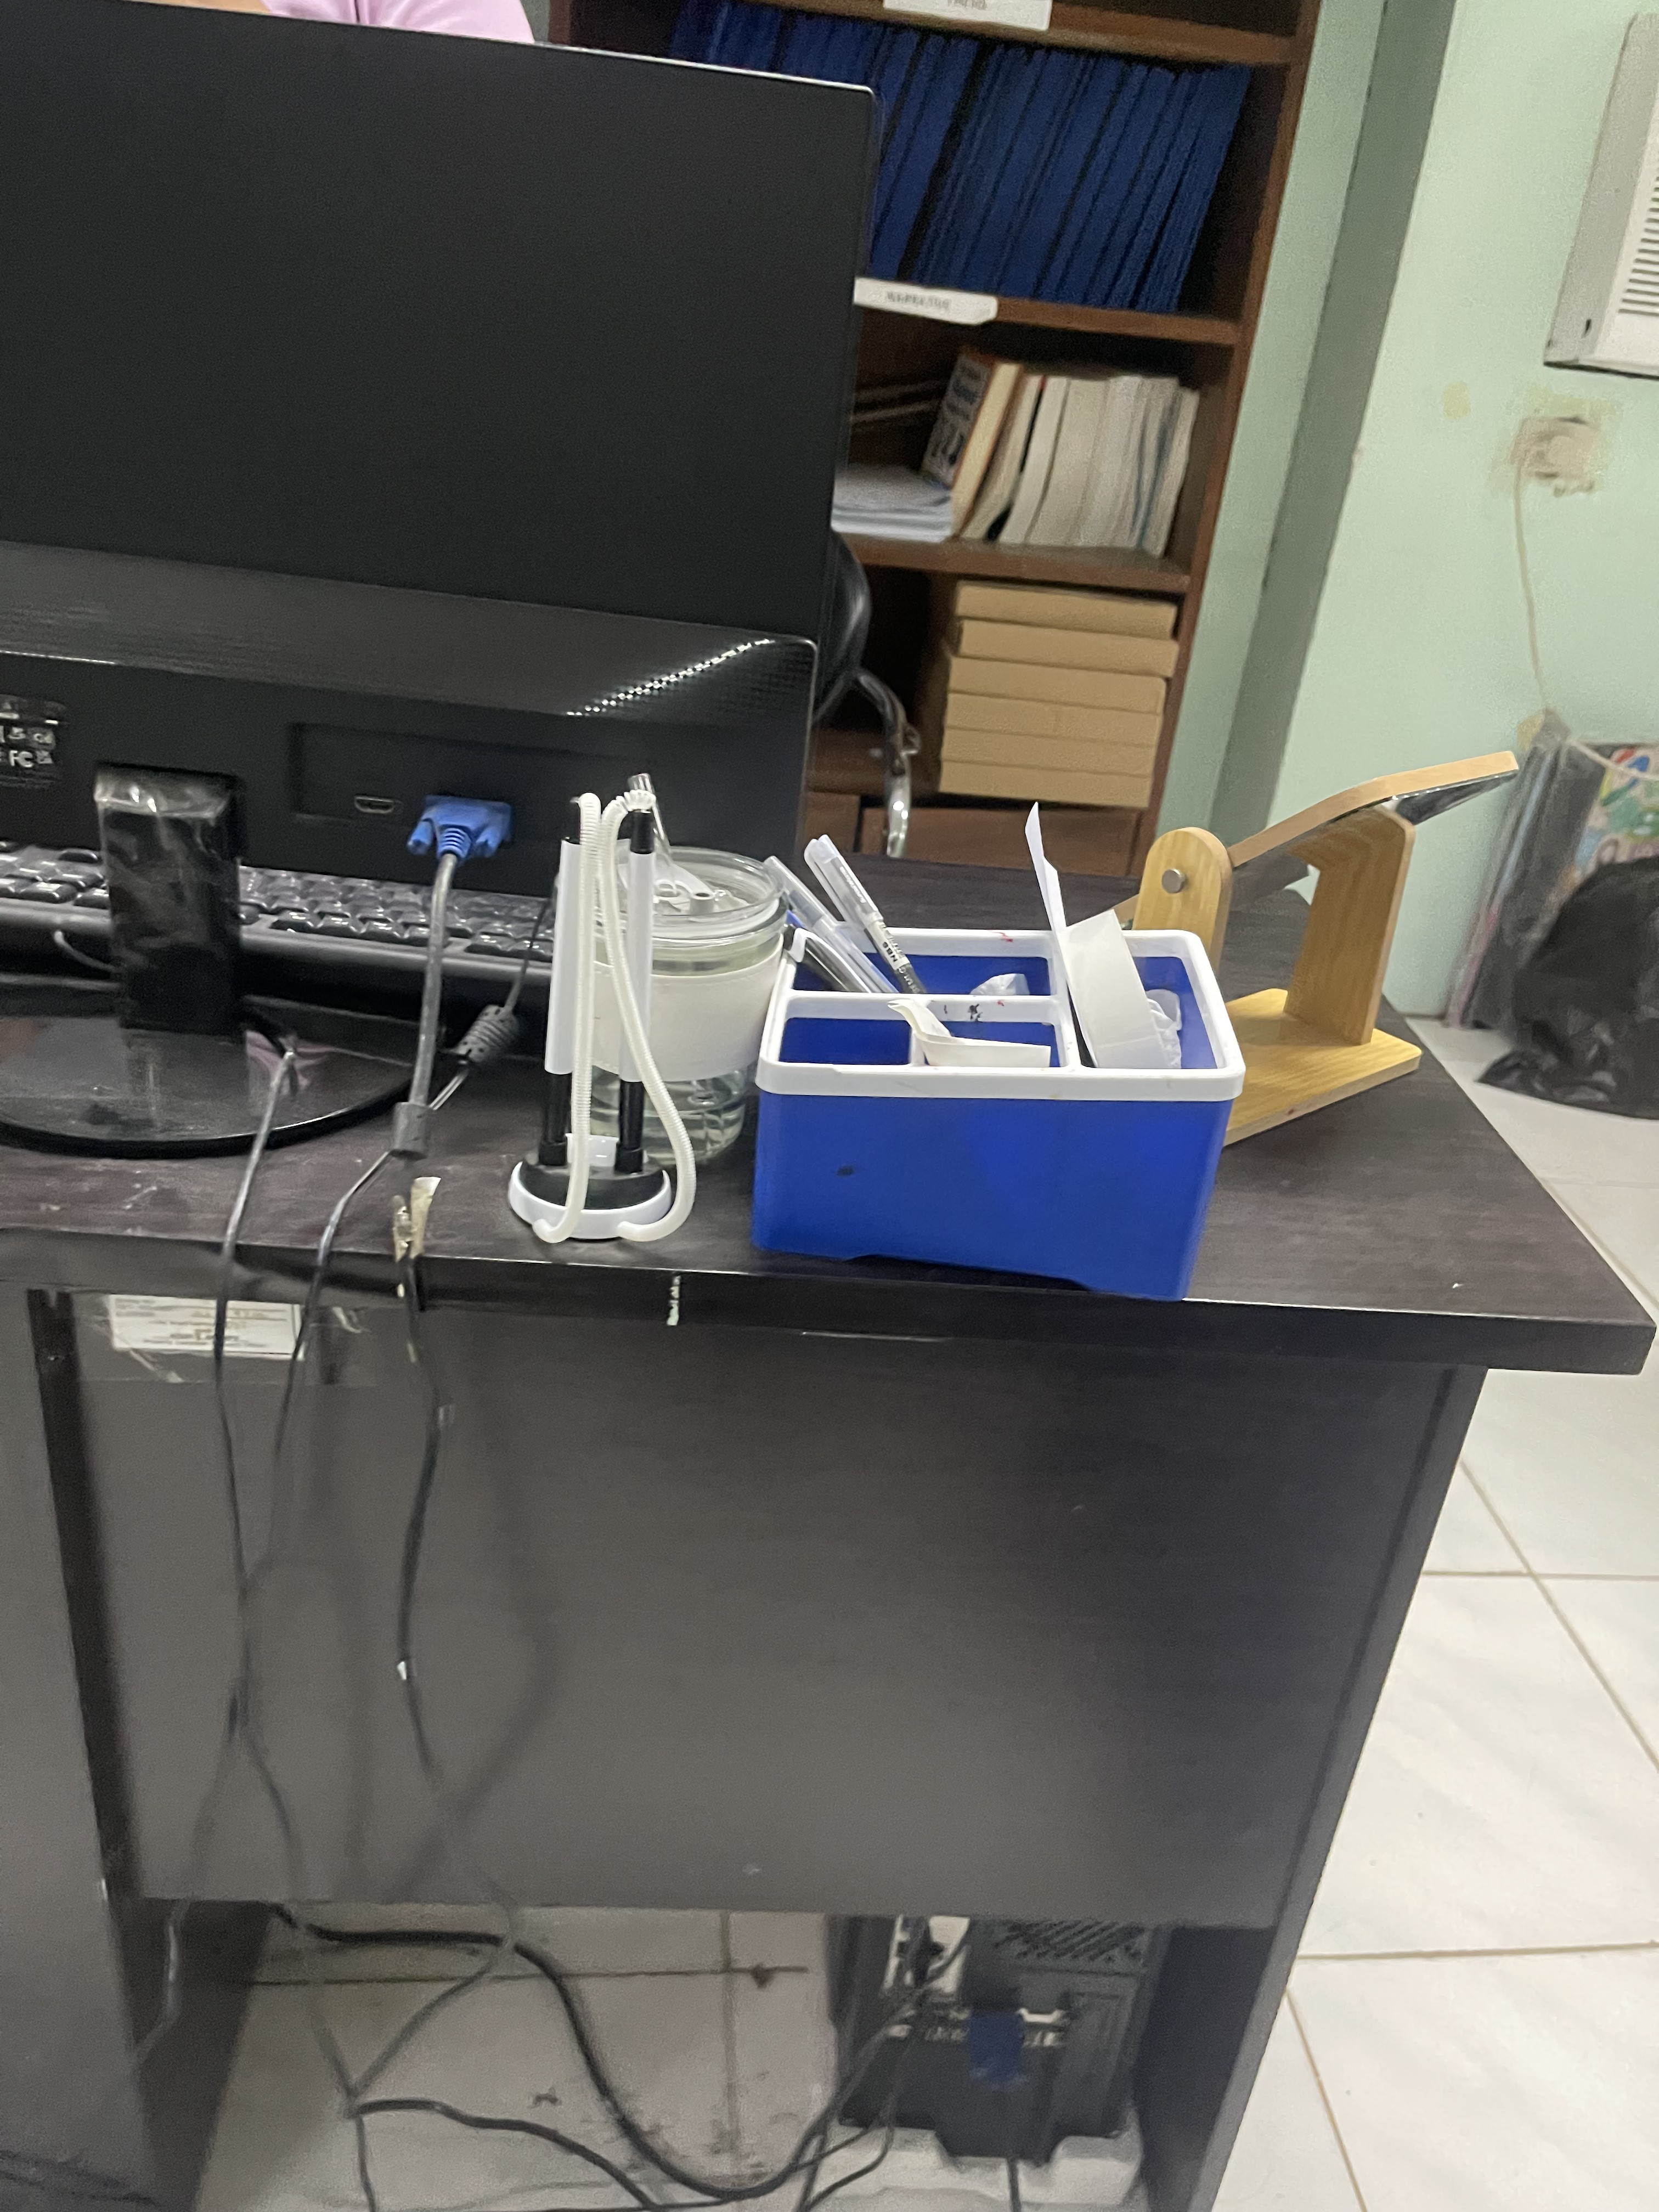table1: (17, 841, 1659, 2212)
